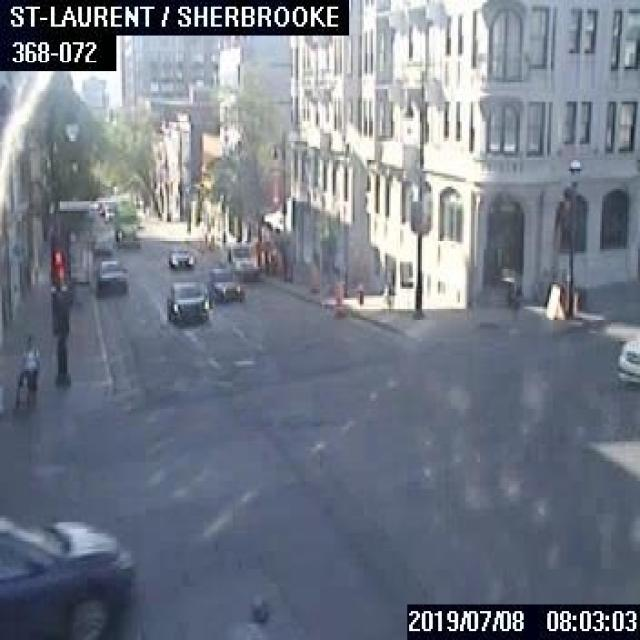construction: (331, 278, 345, 313)
pedestrian: (14, 335, 38, 407)
vehicle: (0, 511, 127, 637), (164, 282, 206, 322), (222, 240, 256, 280), (208, 264, 242, 302), (615, 336, 638, 386), (96, 258, 128, 293), (167, 243, 193, 268)
